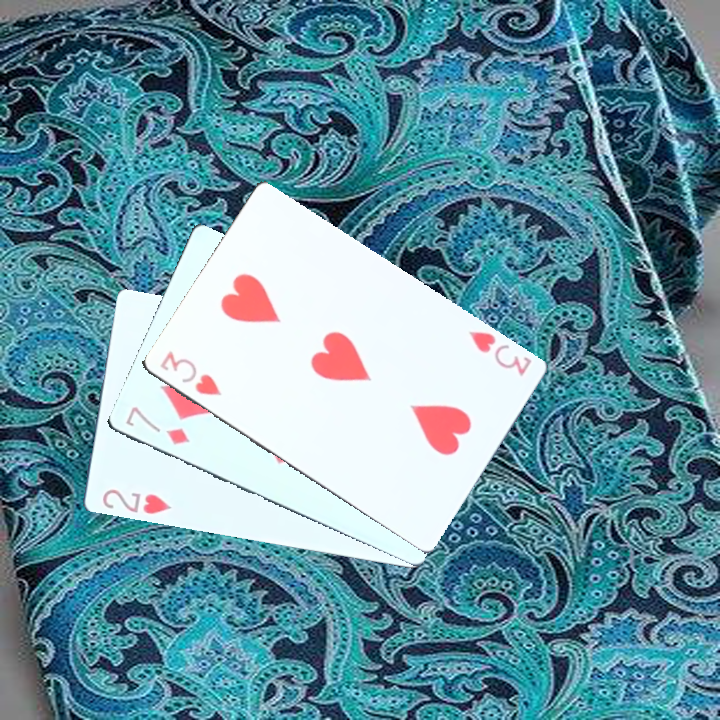2h: (98, 485, 174, 517)
3h: (156, 346, 225, 399), (464, 327, 534, 379)
7d: (121, 402, 193, 447)
